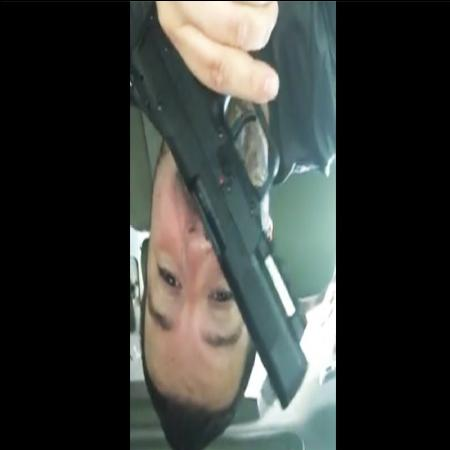Pistol: (129, 13, 311, 409)
